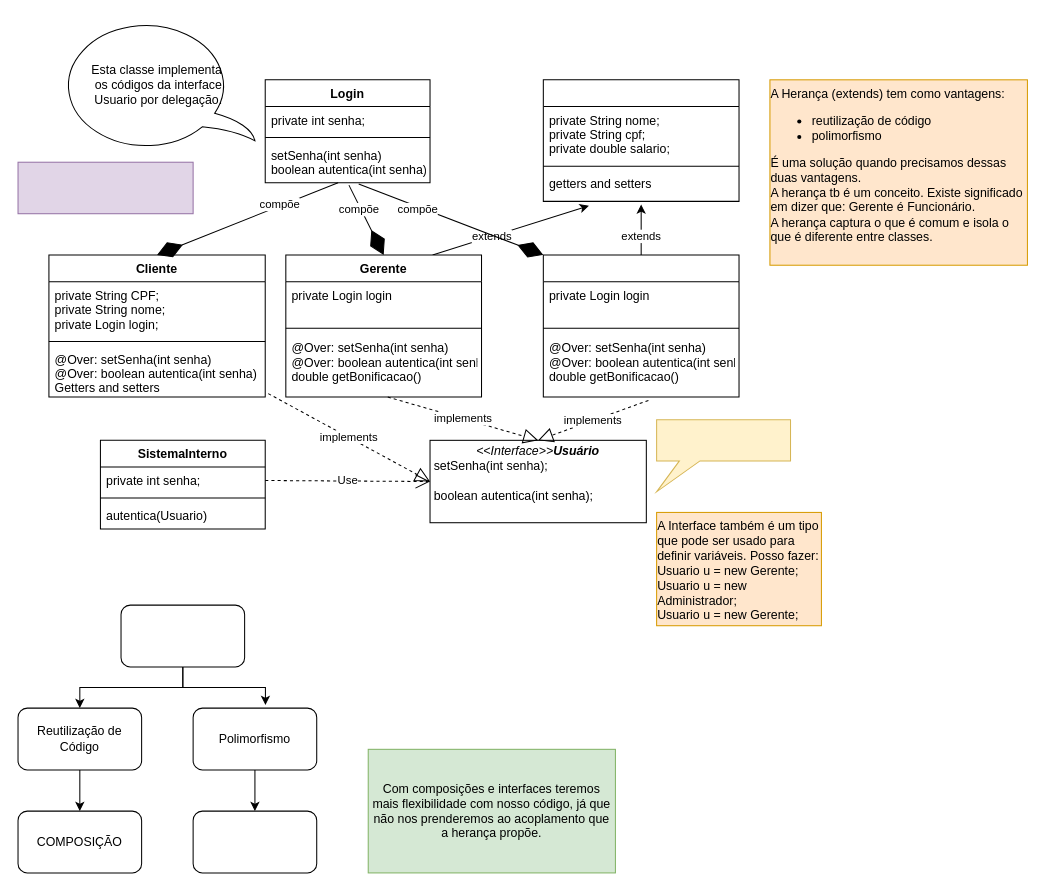
This 1045x891 diagram has some shape labels left out. The shapes that lost their labels are listed below. From the top down, each one's box as (x1, y1, x2, y2) in pixels, then its label:
(542, 79, 739, 201): Funcionário (A)
(17, 161, 193, 214): O Cliente tem um Login. O Gerente tem um Login. O Administrador tem um Login
(542, 254, 739, 397): Administrador
(656, 419, 791, 492): Interface possibilita polimorfismo sem herança
(120, 604, 245, 667): HERANÇA
(192, 810, 317, 873): INTERFACE
